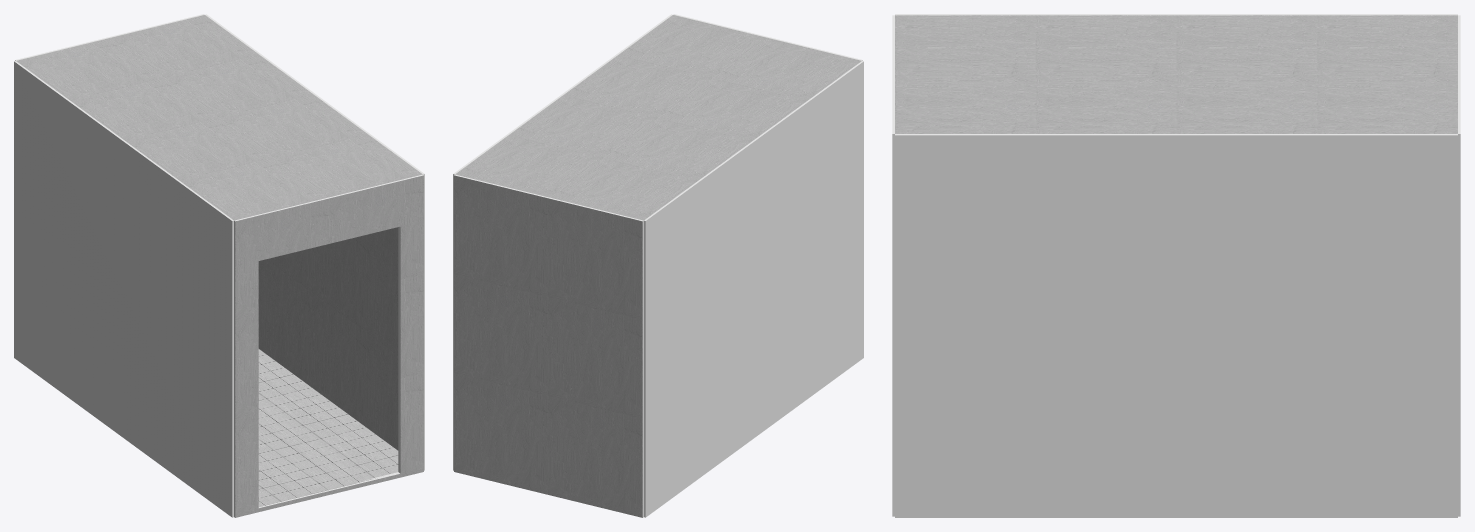
Rendered from CDAChamber.fbx.
3 renders of one model, left to right at view 1: azimuth 30°, elevation 25°; view 2: azimuth 150°, elevation 25°; view 3: azimuth 270°, elevation 25°, orthographic. The views are drawn at different scales.
Visible parts, largest first — view 1: node_id16, node_id7, node_id4 (×2), node_id13 (×2), node_id19; view 2: node_id16, node_id10 (×2), node_id7, node_id13; view 3: node_id13, node_id7, node_id4, node_id10, node_id16.
Boxes of the visible parts, x1,y1,x2,y2 form: node_id16: (14,61,233,517); node_id7: (16,15,422,220); node_id4 (×2): (234,174,423,517); node_id13 (×2): (205,14,424,470); node_id19: (258,349,398,506); node_id16: (644,61,863,517); node_id10 (×2): (454,174,643,517); node_id7: (455,15,861,220); node_id13: (453,14,672,470); node_id13: (895,134,1457,517); node_id7: (895,15,1457,133); node_id4: (892,15,894,516); node_id10: (1458,15,1460,516); node_id16: (895,14,1457,15).
Bounding box in the file's own units: 0.3482 × 0.512 × 0.6895.
Materials: 12 (6 with a texture image).
